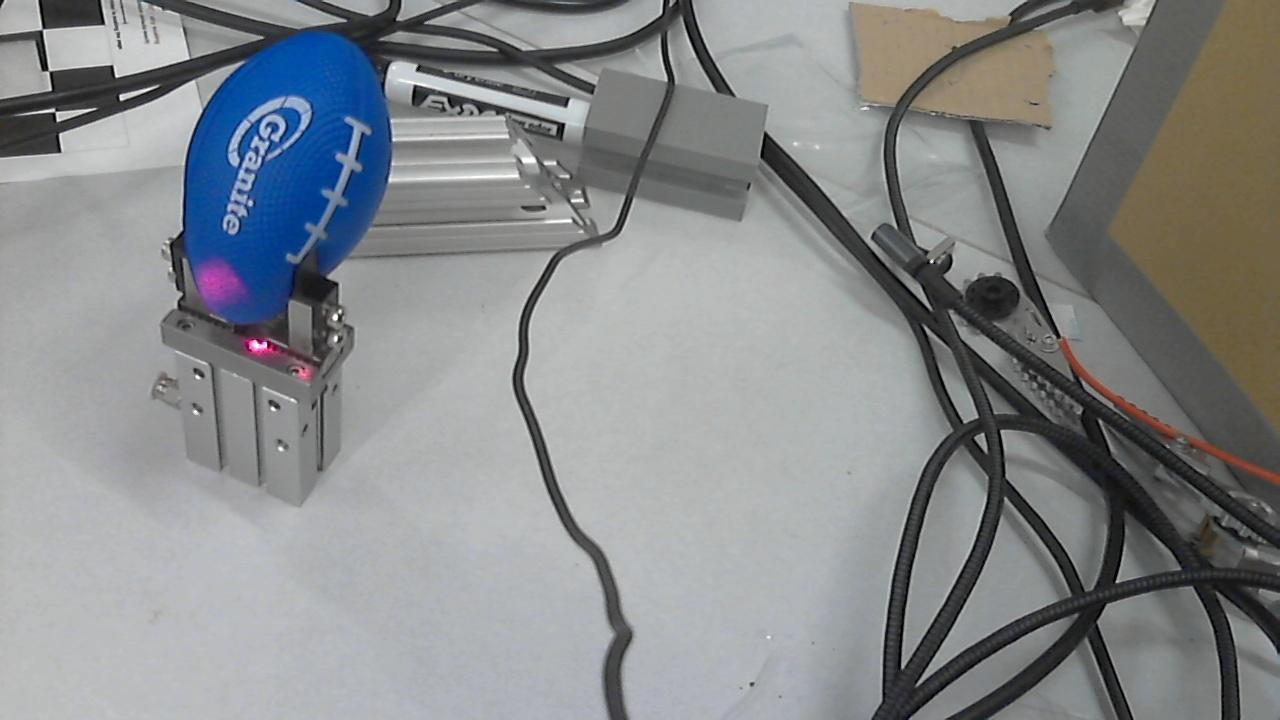Object toy football - Material foam - Color blue - Pdfname VT1ffZoLOnKv: (157, 229, 267, 317)
